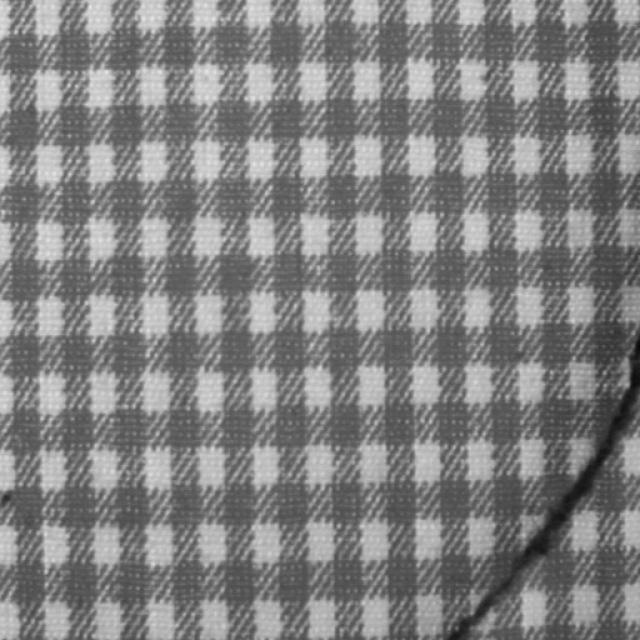Foreign-Body-Defect: (441, 330, 639, 639)
